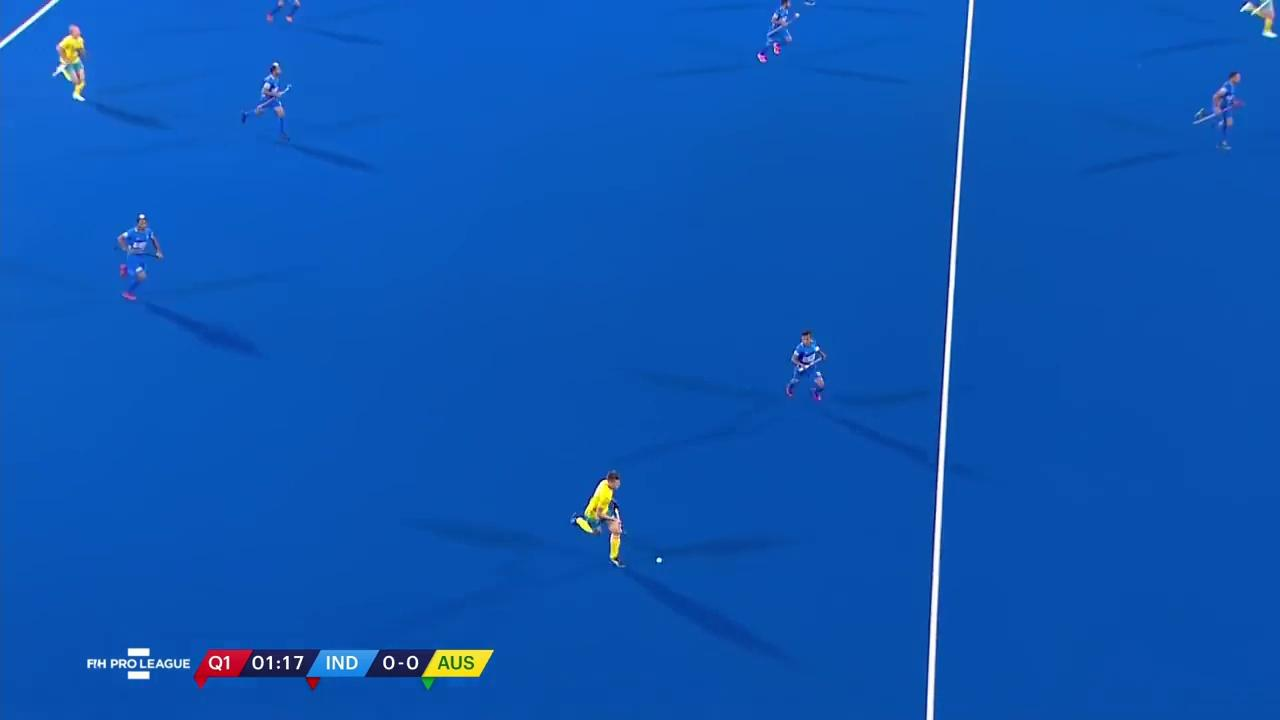ball: (645, 552, 668, 570)
